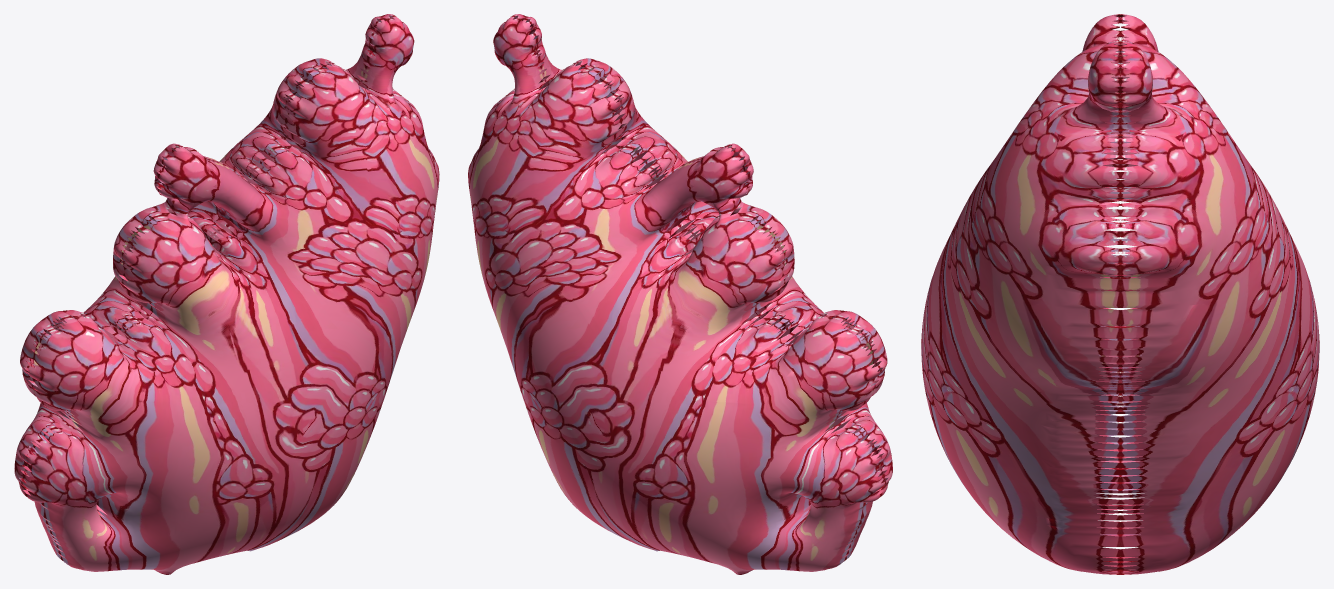
File: pink_tube_coral.glb
The picture shows the model from 3 angles, left to right: view 1: azimuth 30°, elevation 25°; view 2: azimuth 150°, elevation 25°; view 3: azimuth 270°, elevation 25°; orthographic projection. The views are drawn at different scales.
Visible parts, largest first — view 1: pink_tube_coral; view 2: pink_tube_coral; view 3: pink_tube_coral.
Part boxes in pixels (bbox=[...]): pink_tube_coral: bbox=[14, 14, 439, 574]; pink_tube_coral: bbox=[468, 14, 892, 574]; pink_tube_coral: bbox=[921, 14, 1319, 574].
Bounding box in the file's own units: 0.9869 × 1.11 × 0.6609.
Materials: 1 (1 with a texture image).
